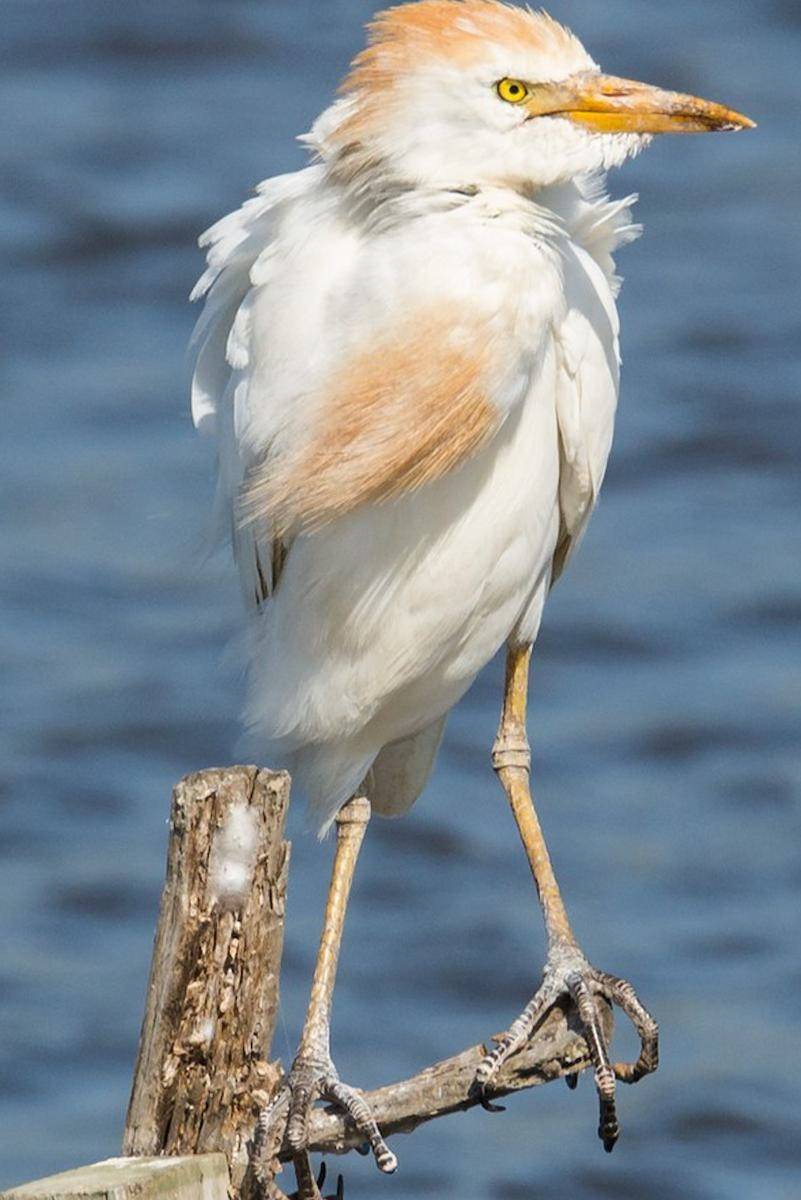egret: (191, 11, 771, 1064)
